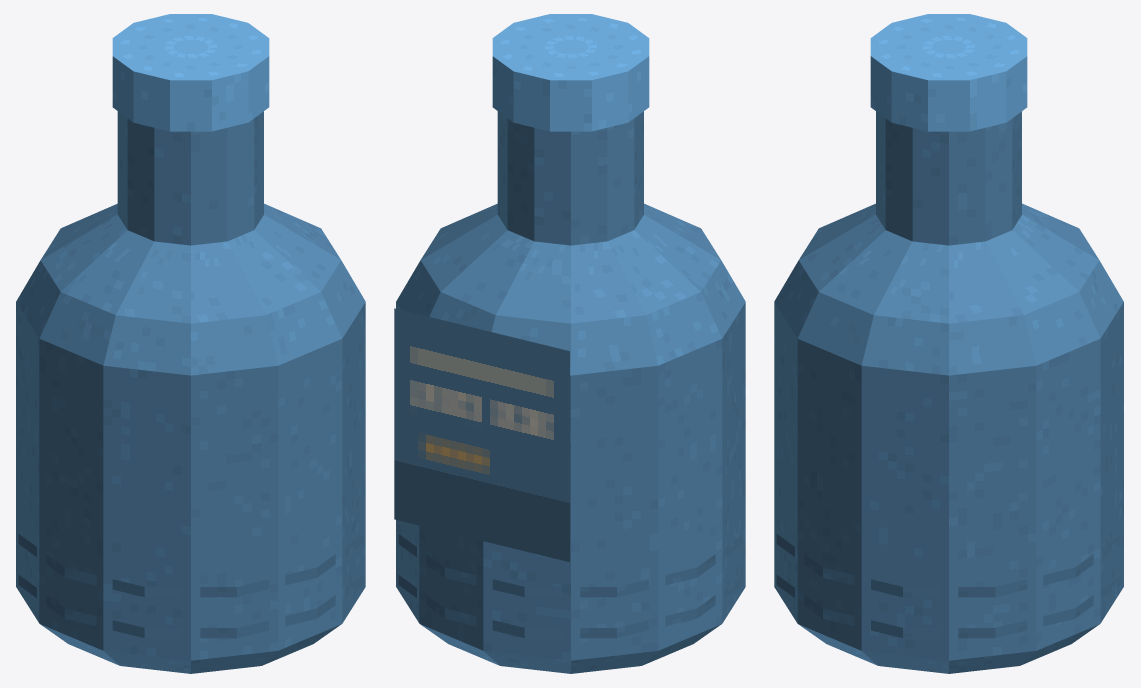
The model's file is sports_drink.glb.
3 views of the same model, side by side, from view 1: azimuth 30°, elevation 25°; view 2: azimuth 150°, elevation 25°; view 3: azimuth 270°, elevation 25° (orthographic).
Visible parts, largest first — view 1: block_shaped drink bottle, block_cap, block_moulded grip ring (×2); view 2: block_shaped drink bottle, block_paper front label, block_cap, block_moulded grip ring (×2); view 3: block_shaped drink bottle, block_cap, block_moulded grip ring (×2).
Part boxes in pixels (<box>): block_shaped drink bottle: <box>16,111,365,673</box>; block_cap: <box>112,14,269,131</box>; block_moulded grip ring (×2): <box>18,534,363,638</box>; block_shaped drink bottle: <box>396,111,745,673</box>; block_paper front label: <box>394,308,569,562</box>; block_cap: <box>492,14,649,131</box>; block_moulded grip ring (×2): <box>398,534,743,638</box>; block_shaped drink bottle: <box>774,111,1123,673</box>; block_cap: <box>870,14,1027,131</box>; block_moulded grip ring (×2): <box>776,534,1121,638</box>.
Bounding box in the file's own units: 0.0909 × 0.1625 × 0.0916.
Materials: 1 (1 with a texture image).
